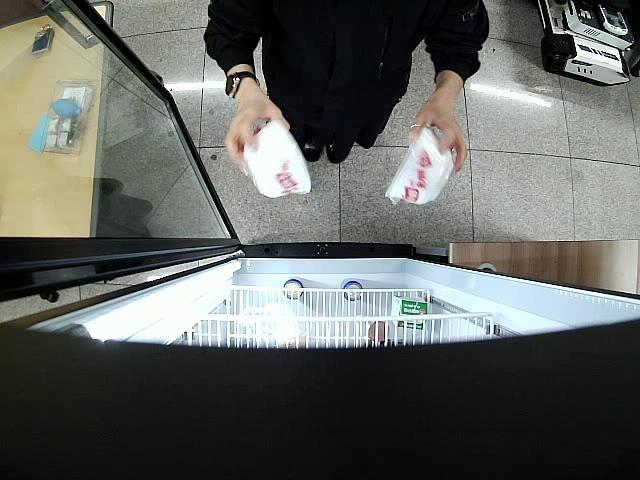09_yukGaeJang: (380, 122, 454, 208), (240, 122, 314, 200)
